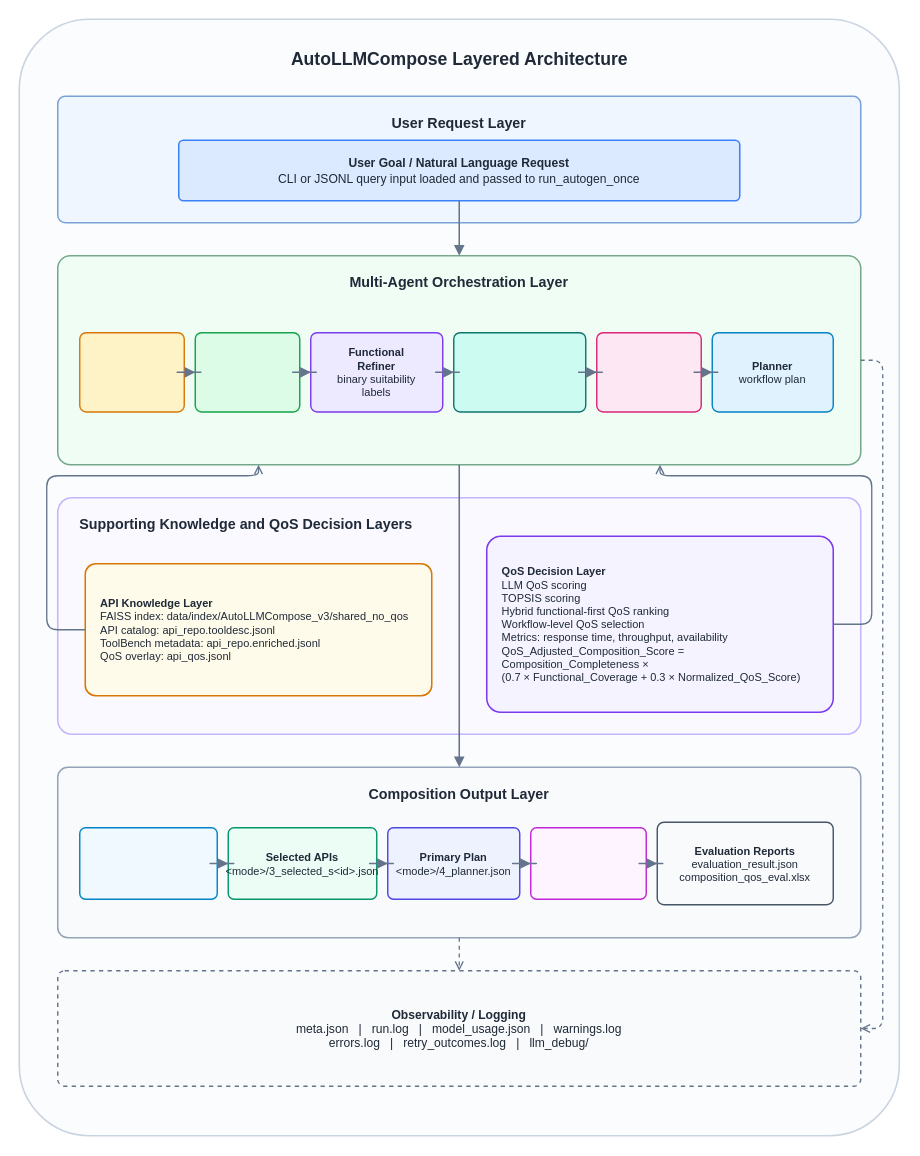
The diagram is 920 pixels wide and 1156 high, and some of its shapes have lost their labels. Here are the shapes that lost their labels. From the top down, the centre of each, then its label:
pixel 131 372: Decomposer ordered subtasks
pixel 247 372: Retriever FAISS RAG retrieval
pixel 519 372: Ranker candidate ranking no_qos | qos_pure_llm qos_topsis | qos_hybrid
pixel 648 372: Selector deterministic planner-input selection
pixel 148 863: Ranked APIs <mode>/2_ranked_s<id>.json
pixel 588 863: Execution Workflow
